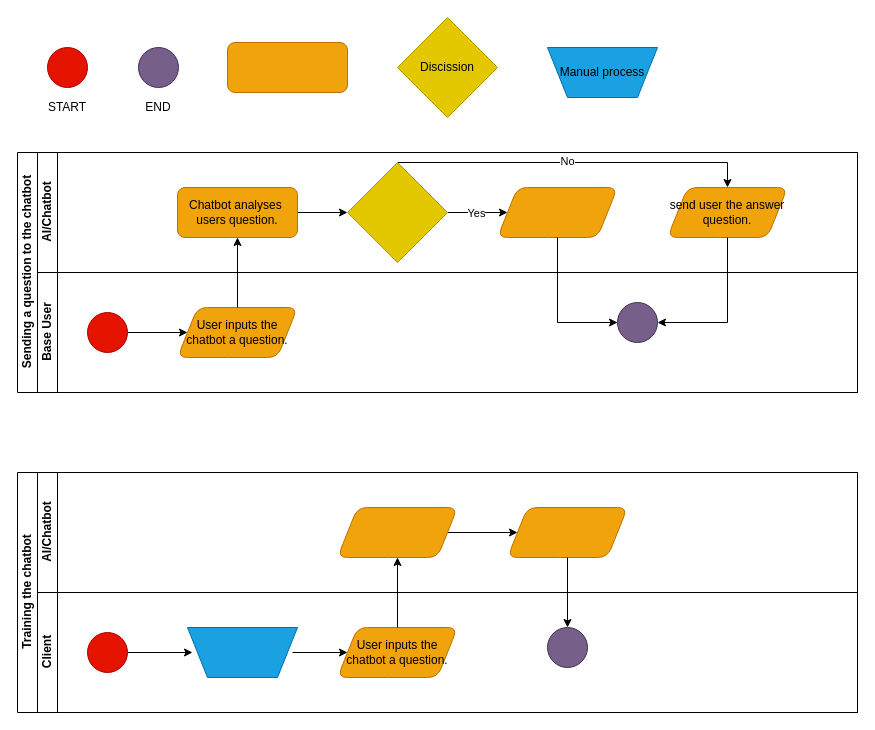
This 875x730 diagram has some shape labels left out. Here are the shapes that lost their labels. From the top down, the centre of each, then its label:
At [287,67]: "Process".
At [397,212]: "can chatbot answer question".
At [557,212]: "output the answer to question.".
At [397,532]: "run training epochs".
At [567,532]: "edit data based on epocs".
At [242,652]: "Client adds new questions in intents file".
